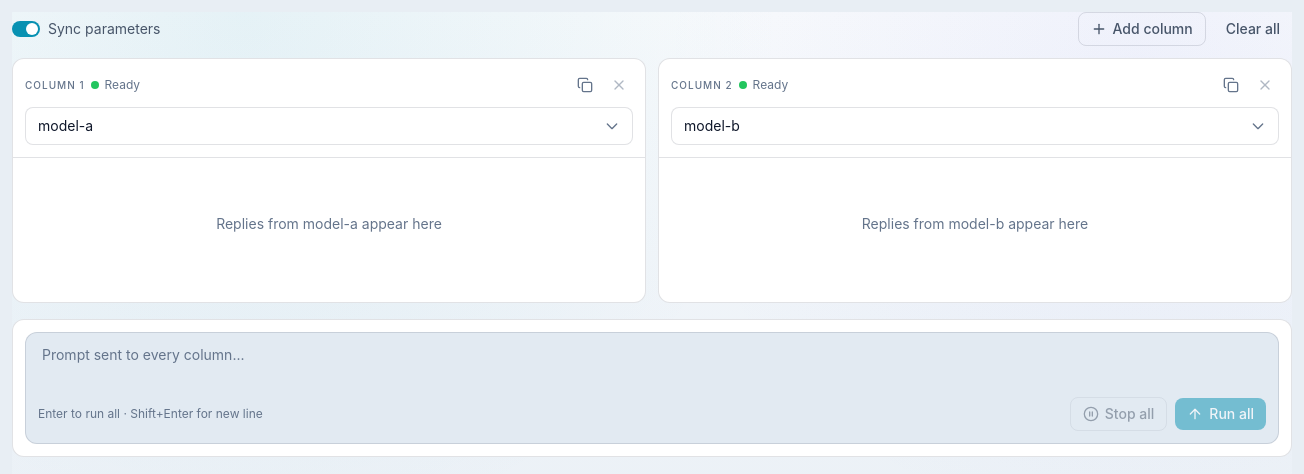
it: CompareView › starts with two columns and supports add, duplicate and remove within 2–4
The image size is (1304, 474).
Expected: the number of elements with test id "compare-column" is 2, [12,58,646,303]; [658,58,1292,303]
Expected: the button named "Remove Column 1" is disabled, [605,71,633,99]
Click the button "Add column".
click(1142, 29)  # box [1078,12,1206,46]
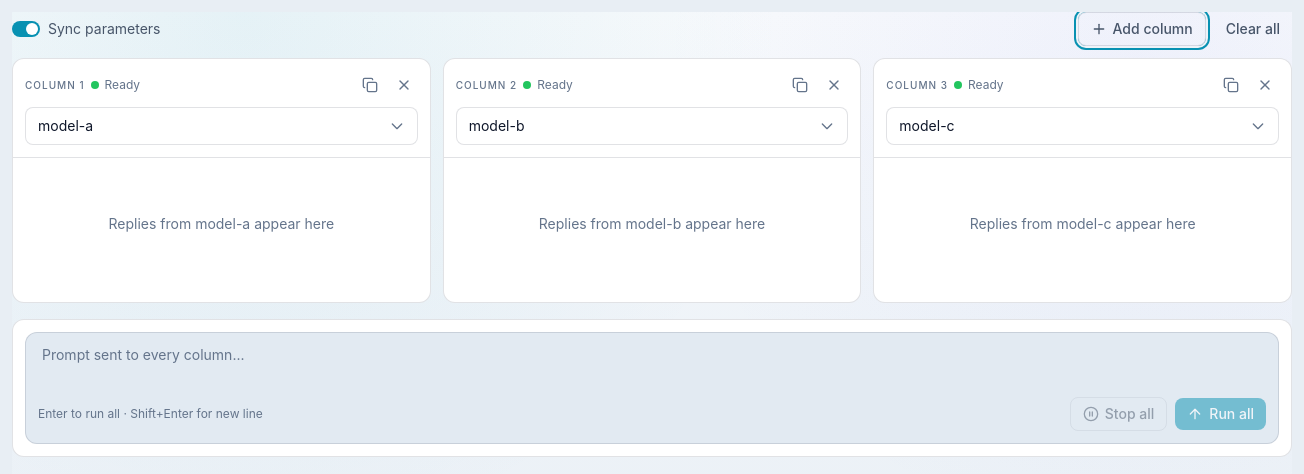
Expected: the number of elements with test id "compare-column" is 3, [12,58,431,303]; [443,58,861,303]; [873,58,1292,303]
Expected: the element named "Column 3: model-c" is shown, [873,58,1292,303]
Click the button named "Duplicate Column 1".
click(370, 85)  # box [356,71,384,99]
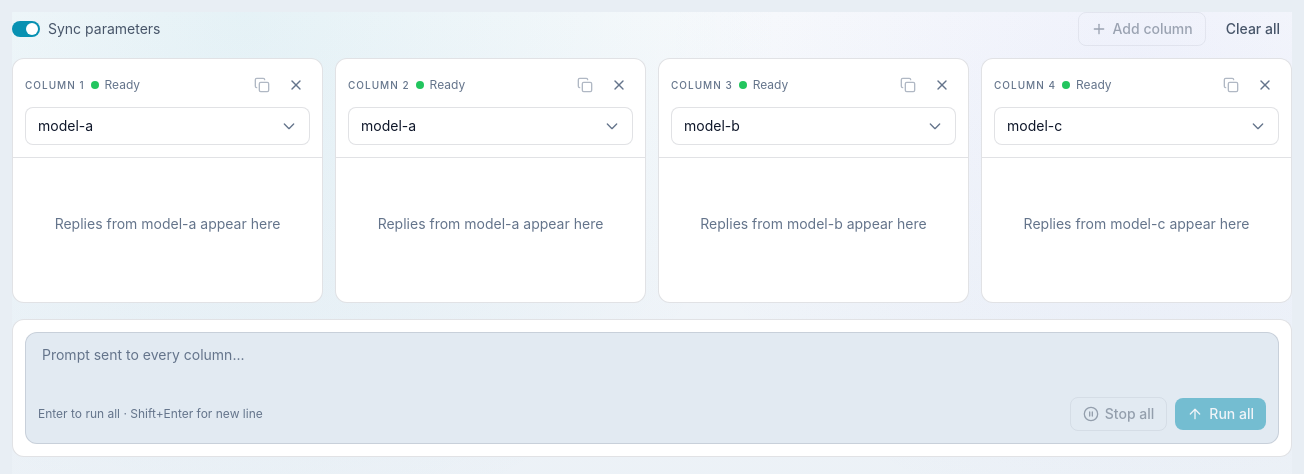
Expected: the number of elements with test id "compare-column" is 4, [12,58,323,303]; [335,58,646,303]; [658,58,969,303]; [981,58,1292,303]
Expected: the button "Add column" is disabled, [1078,12,1206,46]
Click the button named "Remove Column 4".
click(1265, 85)  # box [1251,71,1279,99]
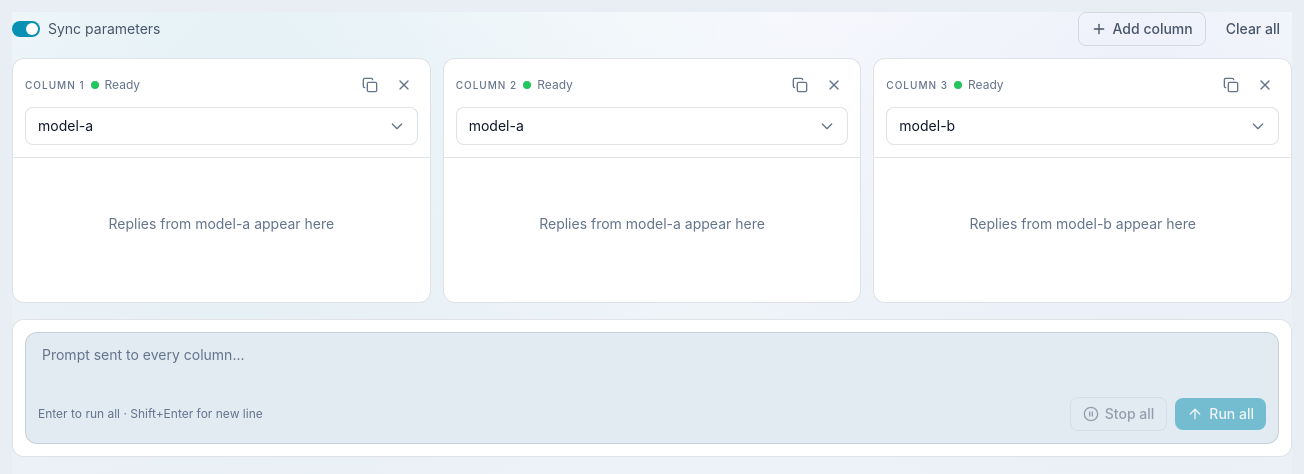
Expected: the number of elements with test id "compare-column" is 3, [12,58,431,303]; [443,58,861,303]; [873,58,1292,303]
